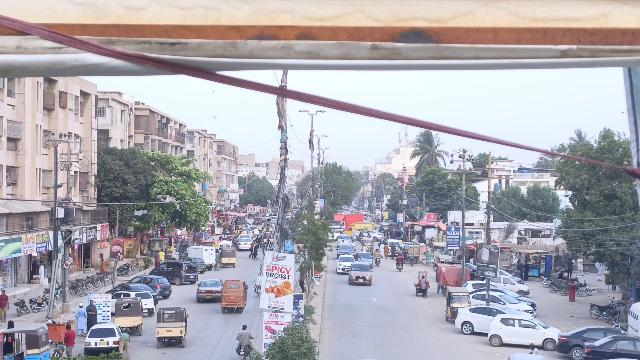Bike: (235, 341, 250, 360)
Car: (486, 311, 560, 349), (454, 301, 512, 336), (553, 324, 613, 354), (580, 334, 640, 360), (83, 323, 123, 357), (149, 260, 200, 284), (131, 273, 173, 299), (195, 277, 223, 304), (347, 261, 374, 287), (335, 254, 355, 275)
Cart: (411, 266, 432, 299)
Person: (74, 300, 88, 337), (64, 323, 77, 359), (235, 323, 254, 342), (86, 299, 99, 326), (118, 331, 130, 358), (0, 289, 9, 322)
Rickshaw: (155, 306, 191, 347), (113, 296, 145, 335), (219, 277, 248, 314), (442, 286, 470, 321), (219, 246, 237, 269)
Truck: (185, 244, 216, 267)
